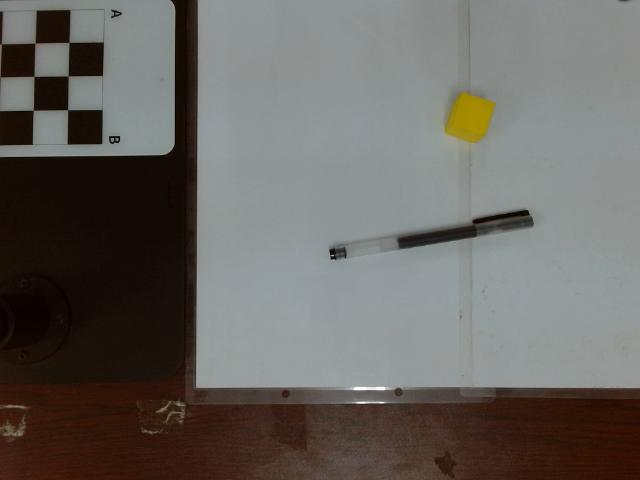PEN: (327, 208, 534, 261)
